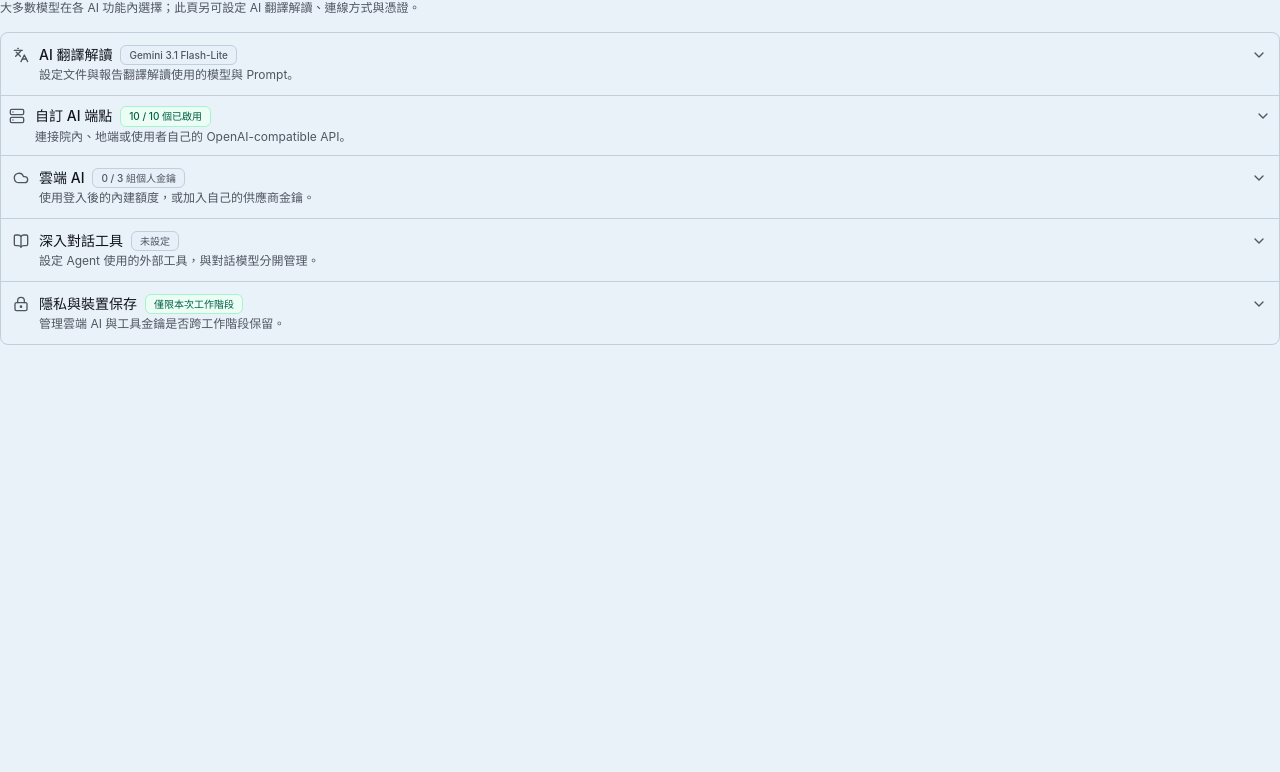
Test: ModelAndKeySettings progressive disclosure › caps custom models at ten
Click the button "自訂 AI 端點 10 / 10 個已啟用 連接院內、地端或使用者自己的 OpenAI-compatible API。": (74, 116) [9, 96, 1271, 155]
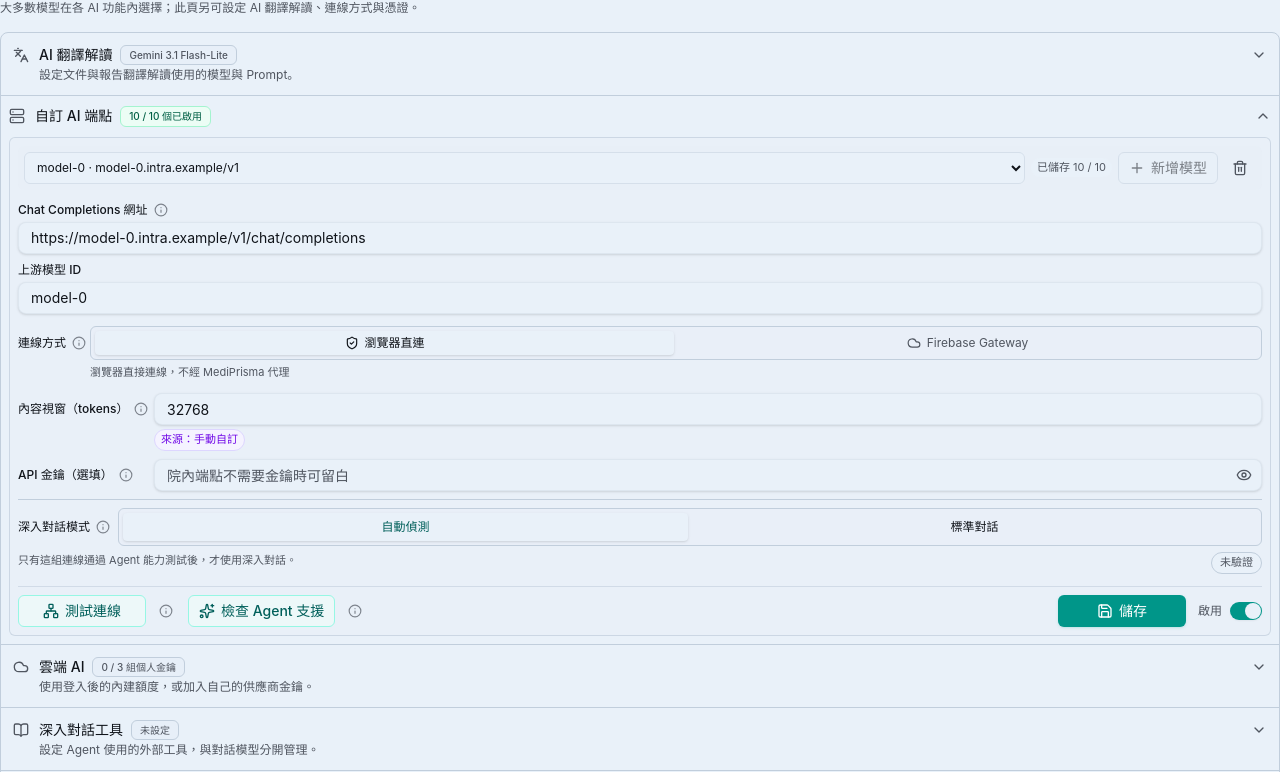
Now the text "已儲存 10 / 10" is shown, box [1031, 158, 1112, 177]
Now the button "新增模型" is disabled, box [1118, 152, 1218, 184]
